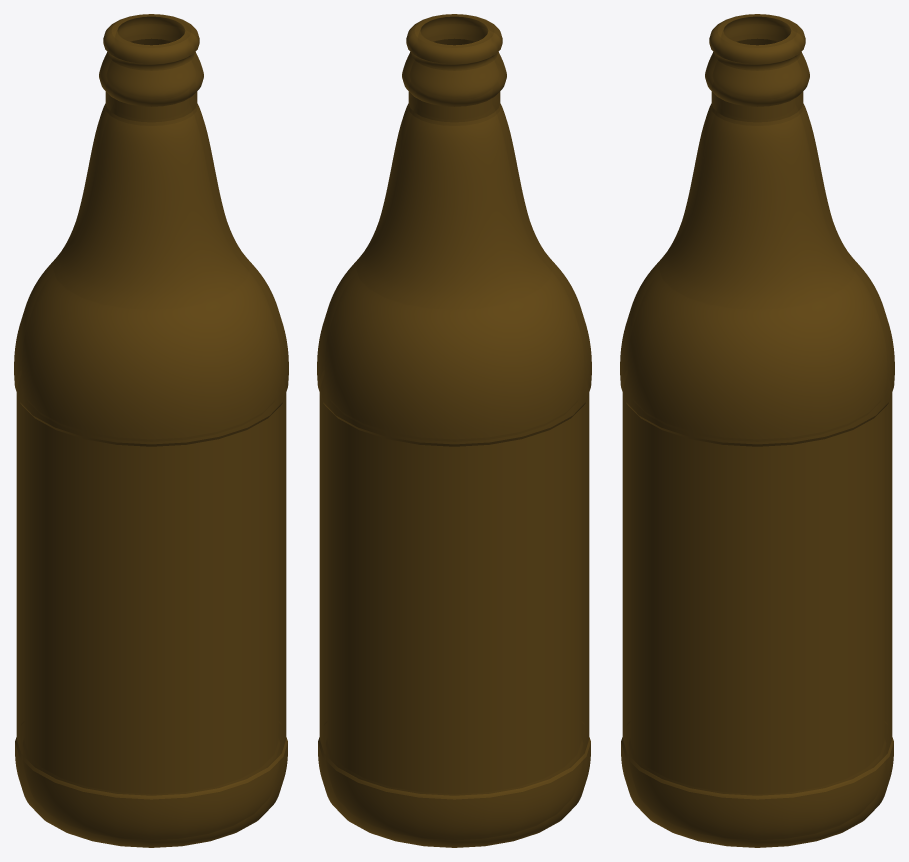
The picture shows the model from 3 angles, left to right: view 1: azimuth 30°, elevation 25°; view 2: azimuth 150°, elevation 25°; view 3: azimuth 270°, elevation 25°; orthographic projection.
Visible parts, largest first — view 1: group_0 (×2); view 2: group_0 (×2); view 3: group_0 (×2).
Boxes of the visible parts, left/top/right/bottom form: group_0 (×2): left=14, top=14, right=288, bottom=847; group_0 (×2): left=317, top=14, right=591, bottom=847; group_0 (×2): left=620, top=14, right=894, bottom=847.
Bounding box in the file's own units: 3.01 × 3.01 × 9.3.
